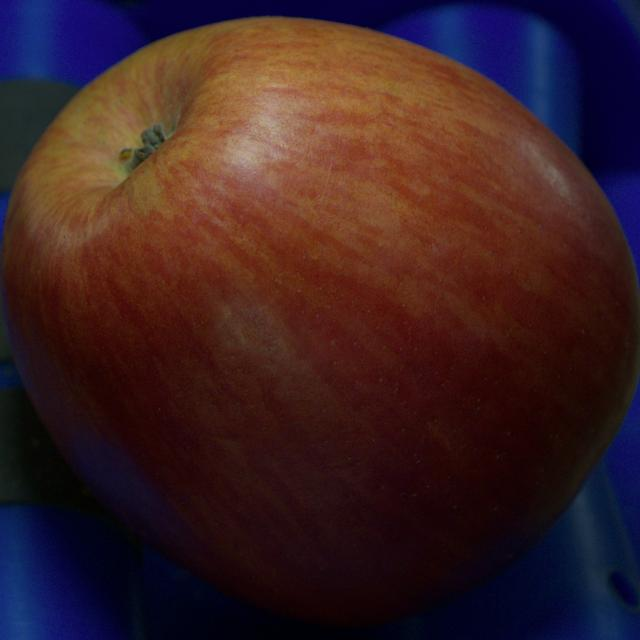apple: (0, 18, 639, 624)
